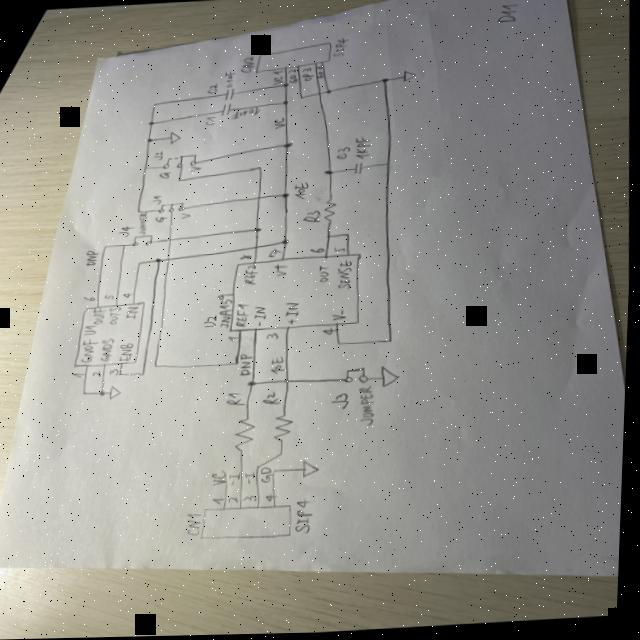capacitor: (353, 162, 366, 176), (224, 87, 236, 102), (219, 104, 233, 116)
crossover: (286, 378, 294, 384), (317, 91, 323, 97), (254, 244, 260, 250), (167, 237, 174, 242), (167, 256, 173, 260), (257, 197, 263, 201)
ground: (382, 365, 404, 390), (303, 459, 324, 480), (110, 384, 125, 399), (402, 70, 418, 83), (168, 131, 182, 145)
junction: (282, 238, 292, 246), (249, 380, 259, 388), (283, 142, 293, 149), (100, 389, 109, 396), (282, 99, 290, 106), (255, 227, 263, 234), (380, 78, 389, 84), (325, 170, 334, 176), (325, 234, 334, 240), (234, 359, 243, 365), (156, 258, 164, 264), (283, 193, 291, 199), (325, 89, 333, 95), (146, 137, 153, 143), (385, 162, 392, 168), (282, 83, 290, 88), (148, 120, 155, 125), (388, 339, 395, 344), (337, 341, 344, 346), (138, 260, 144, 265), (258, 166, 264, 171), (346, 233, 352, 238), (83, 391, 90, 395), (178, 178, 184, 182), (152, 102, 158, 106), (103, 244, 109, 248), (142, 372, 148, 376), (137, 208, 143, 212), (143, 165, 149, 169), (275, 470, 281, 474), (123, 243, 128, 247), (300, 95, 304, 100), (259, 464, 264, 468), (120, 373, 126, 376), (283, 452, 287, 456), (156, 365, 160, 368)
resistor: (235, 415, 261, 453), (274, 413, 297, 443), (323, 199, 339, 224)
switch: (164, 153, 200, 169), (345, 367, 374, 386), (159, 201, 188, 214), (133, 234, 155, 247)
terminal: (201, 503, 297, 545), (254, 42, 334, 74)
text: (296, 497, 320, 535), (360, 384, 380, 427), (218, 293, 236, 329), (337, 260, 355, 291), (81, 337, 102, 363), (353, 136, 375, 160), (236, 302, 254, 329), (188, 512, 206, 538), (229, 107, 262, 121), (101, 337, 118, 363), (286, 301, 303, 326), (332, 37, 351, 59), (332, 392, 353, 411), (119, 341, 137, 362), (240, 353, 256, 376), (245, 263, 261, 286), (239, 55, 256, 74), (271, 356, 288, 375), (137, 212, 151, 235), (294, 181, 310, 201), (94, 306, 110, 325), (228, 391, 248, 406), (264, 391, 284, 406), (255, 305, 269, 326), (110, 306, 126, 324), (214, 470, 231, 486), (230, 470, 246, 487), (263, 466, 278, 484), (304, 210, 323, 224), (222, 71, 236, 89), (119, 224, 137, 238), (319, 265, 333, 283), (336, 145, 351, 161), (127, 305, 142, 320), (86, 249, 100, 265), (246, 470, 260, 486), (275, 263, 291, 277), (333, 308, 349, 322), (205, 315, 219, 329), (270, 247, 285, 259), (325, 327, 343, 337), (273, 117, 287, 129), (240, 251, 256, 261), (85, 324, 100, 334), (311, 246, 327, 255), (215, 495, 230, 504), (231, 494, 243, 505), (204, 116, 217, 126), (159, 170, 173, 179), (246, 494, 260, 503), (269, 492, 280, 503), (206, 83, 218, 93), (155, 215, 170, 223), (152, 195, 164, 205), (268, 332, 282, 340), (154, 150, 165, 160), (335, 246, 347, 255), (105, 292, 116, 301), (74, 371, 88, 378), (302, 73, 314, 81), (273, 76, 285, 84), (190, 165, 203, 172), (124, 291, 135, 299), (288, 75, 299, 83), (111, 368, 122, 376), (182, 212, 193, 220), (85, 294, 97, 301), (94, 370, 104, 377), (230, 336, 241, 342), (274, 69, 285, 75), (317, 71, 325, 79), (302, 67, 312, 73), (315, 65, 325, 70), (288, 69, 296, 73)
